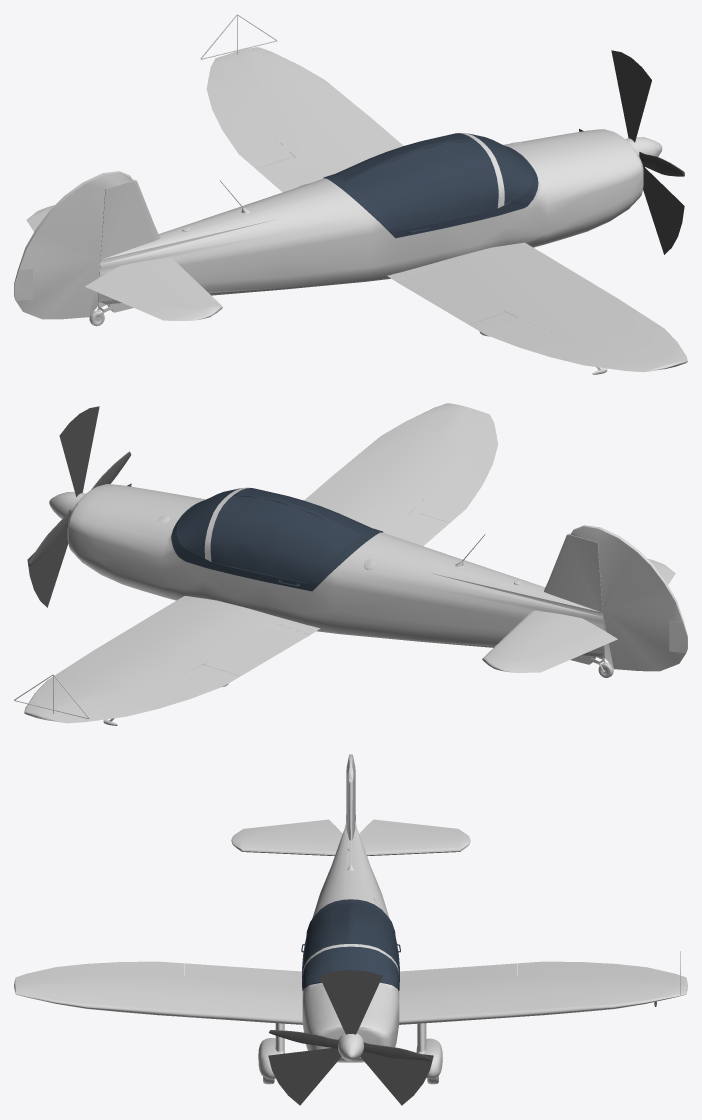
The model's file is cap10.glb.
3 renders of one model, top to bottom at view 1: azimuth 30°, elevation 25°; view 2: azimuth 150°, elevation 25°; view 3: azimuth 270°, elevation 25°, orthographic. The views are drawn at different scales.
Visible parts, largest first — view 1: body, glass, spin; view 2: body, glass, spin; view 3: body, spin, glass.
Part boxes in pixels (x1=…): body: x1=14, y1=14, x2=687, y2=374; glass: x1=323, y1=133, x2=538, y2=238; spin: x1=579, y1=50, x2=684, y2=254; body: x1=14, y1=403, x2=687, y2=725; glass: x1=171, y1=488, x2=382, y2=591; spin: x1=27, y1=406, x2=131, y2=607; body: x1=14, y1=754, x2=687, y2=1084; spin: x1=268, y1=970, x2=433, y2=1105; glass: x1=301, y1=899, x2=400, y2=990.
Bounding box in the file's own units: 1.91 × 0.6256 × 2.2.
